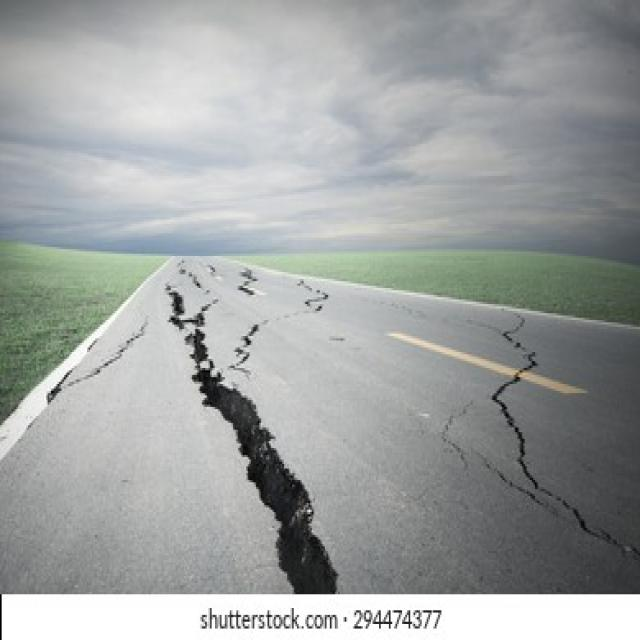road collapse: (0, 92, 574, 600)
